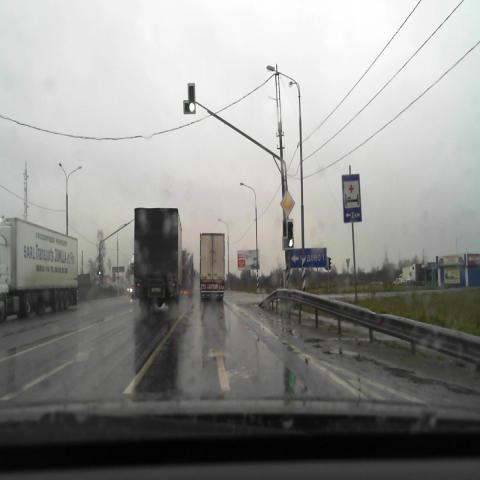7_2: (341, 172, 362, 222)
